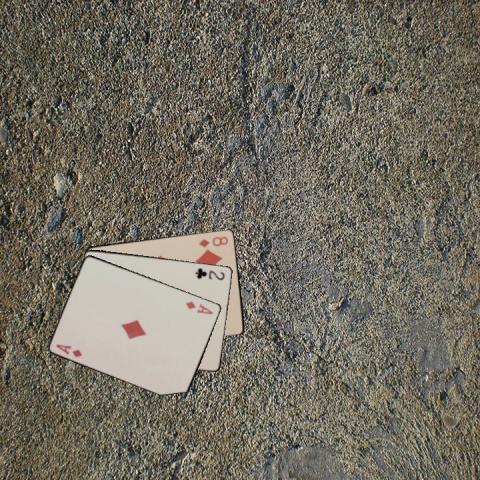2c: (193, 265, 226, 281)
8d: (196, 233, 229, 249)
Ad: (53, 341, 84, 359), (182, 298, 214, 315)
